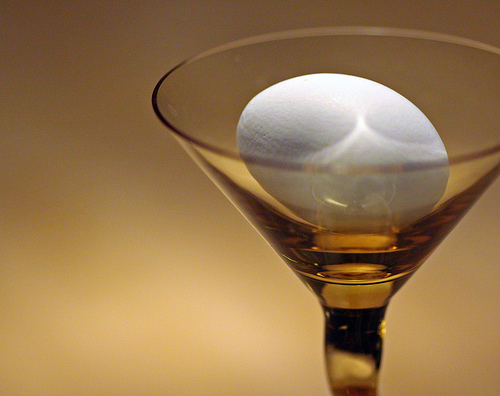egg: (234, 71, 450, 230)
